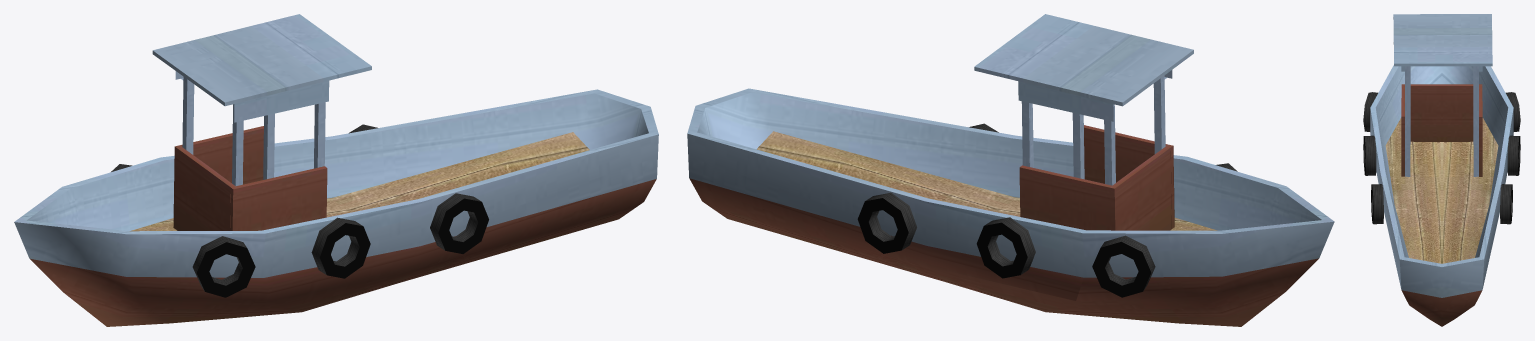
The model's file is boat.FBX.
3 renders of one model, left to right at view 1: azimuth 30°, elevation 25°; view 2: azimuth 150°, elevation 25°; view 3: azimuth 270°, elevation 25°, orthographic. The views are drawn at different scales.
Visible parts, largest first — view 1: Object001; view 2: Object001; view 3: Object001.
Boxes of the visible parts, <box> form: Object001: <box>14,14,658,326</box>; Object001: <box>687,14,1334,326</box>; Object001: <box>1363,14,1520,326</box>.
Size of the model in its own units: 70.75 by 25.35 by 22.02.
Materials: 1 (1 with a texture image).
